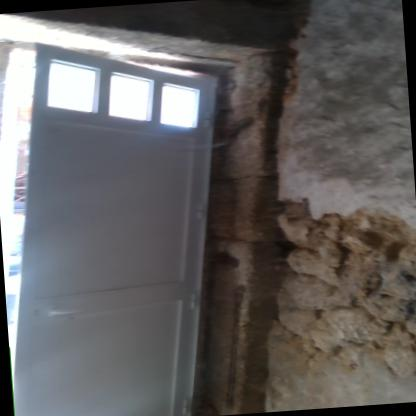semi: (0, 13, 256, 415)
